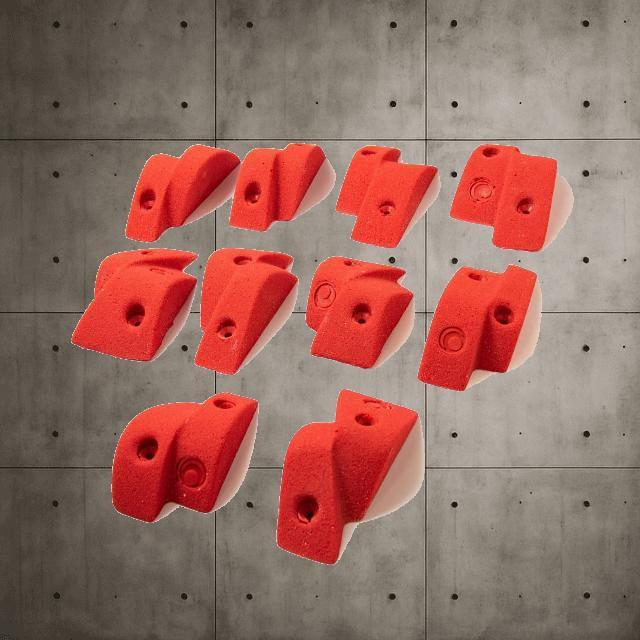Pinch: (276, 388, 424, 564), (110, 392, 256, 522), (417, 264, 539, 392), (69, 246, 197, 362), (193, 246, 297, 374), (304, 254, 412, 368), (448, 143, 556, 251), (123, 142, 239, 242), (334, 144, 438, 248), (228, 140, 326, 232)
